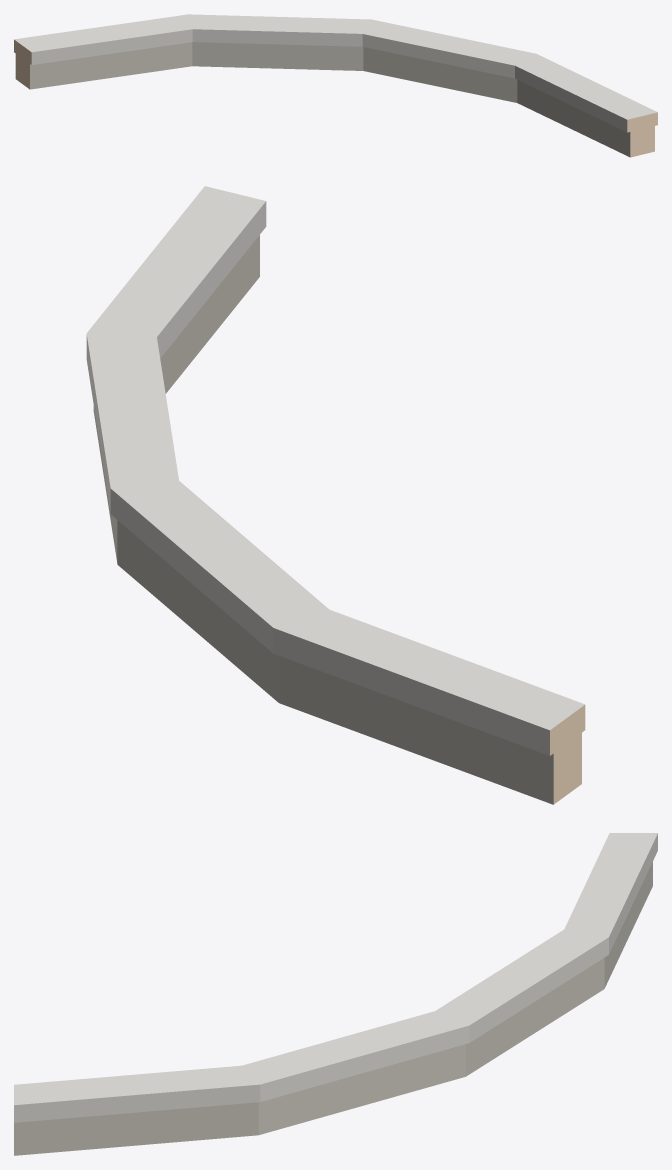
File: Tiered_Retaining_Wall_Flat_Curve_4x4_Top.fbx
3 renders of one model, top to bottom at view 1: azimuth 30°, elevation 25°; view 2: azimuth 150°, elevation 25°; view 3: azimuth 270°, elevation 25°, orthographic. The views are drawn at different scales.
Parts seen in each view (by area): view 1: Tiered_Retaining_Wall_Flat_Curve_4x4_Top; view 2: Tiered_Retaining_Wall_Flat_Curve_4x4_Top; view 3: Tiered_Retaining_Wall_Flat_Curve_4x4_Top.
Boxes of the visible parts, x1,y1,x2,y2 form: Tiered_Retaining_Wall_Flat_Curve_4x4_Top: [14, 14, 657, 157]; Tiered_Retaining_Wall_Flat_Curve_4x4_Top: [86, 186, 585, 804]; Tiered_Retaining_Wall_Flat_Curve_4x4_Top: [14, 833, 657, 1155].
Size of the model in its own units: 416 by 37.5 by 416.
